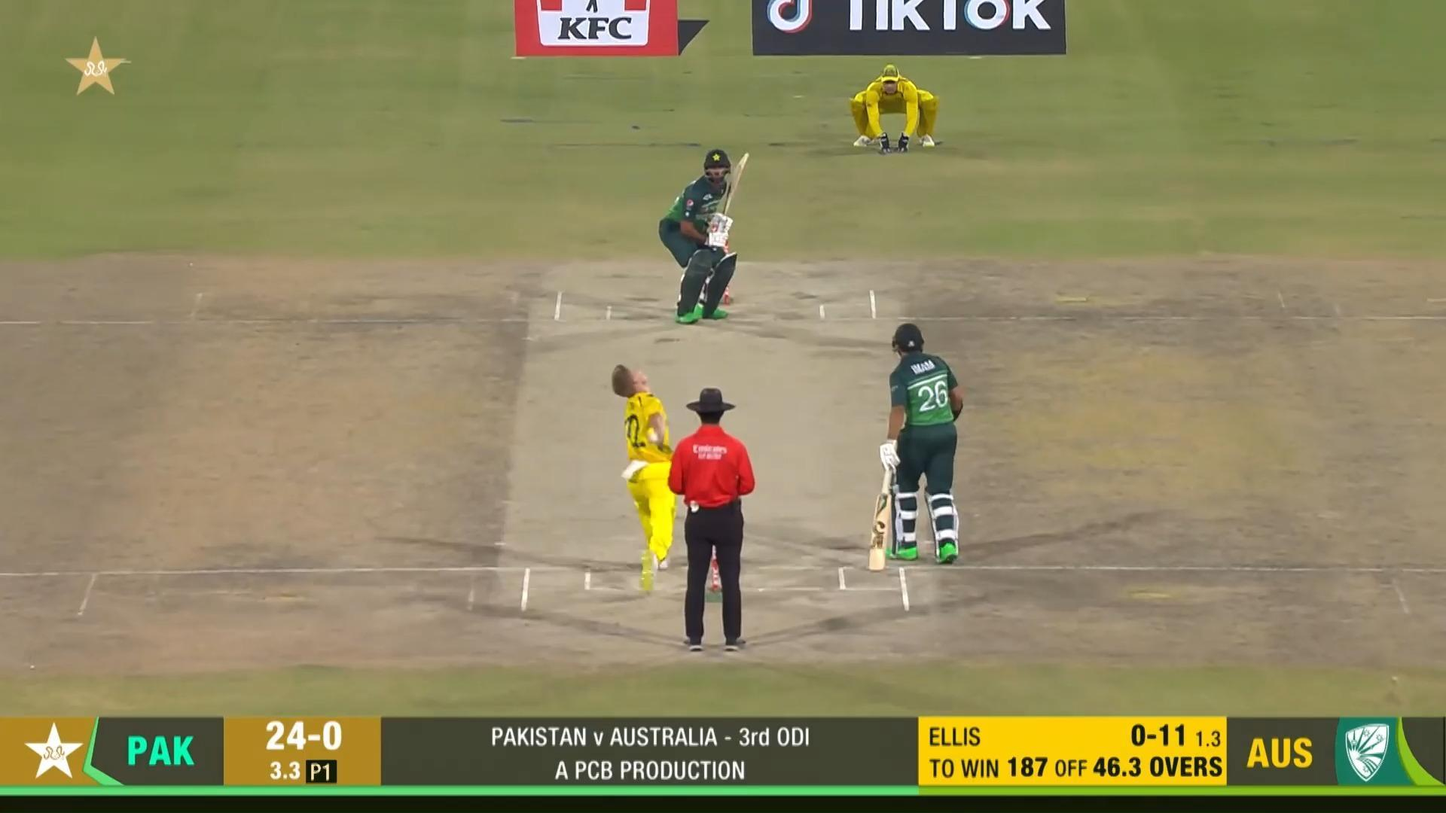BM 1: (658, 148, 749, 324)
BO: (612, 364, 675, 589)
